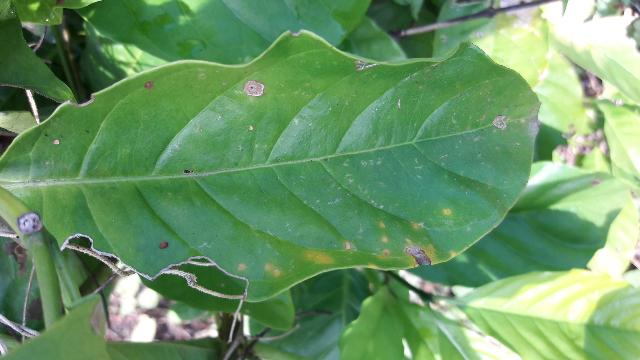rust_level_1: (3, 34, 538, 298)
